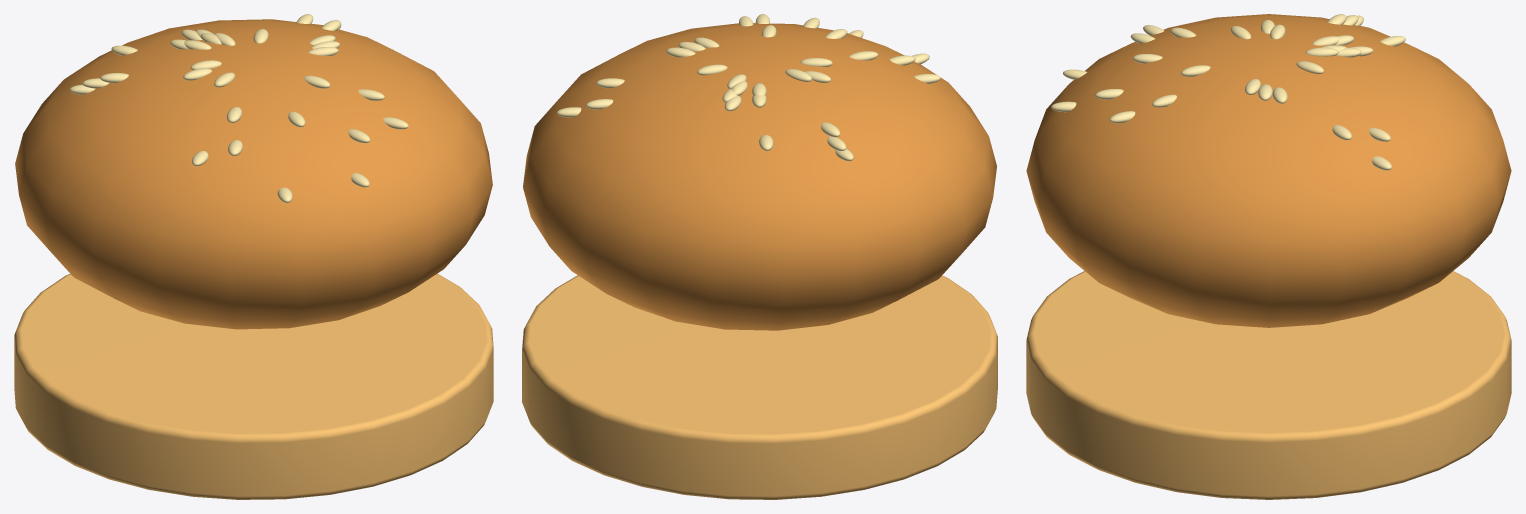
The model's file is brioche-bun.glb.
3 renders of one model, left to right at view 1: azimuth 30°, elevation 25°; view 2: azimuth 150°, elevation 25°; view 3: azimuth 270°, elevation 25°, orthographic.
Parts seen in each view (by area): view 1: brioche-bun_mesh; view 2: brioche-bun_mesh; view 3: brioche-bun_mesh.
Boxes of the visible parts, x1=… form: brioche-bun_mesh: x1=14, y1=14, x2=493, y2=499; brioche-bun_mesh: x1=522, y1=14, x2=997, y2=499; brioche-bun_mesh: x1=1026, y1=14, x2=1511, y2=499.
Bounding box in the file's own units: 0.23 × 0.1833 × 0.23.
